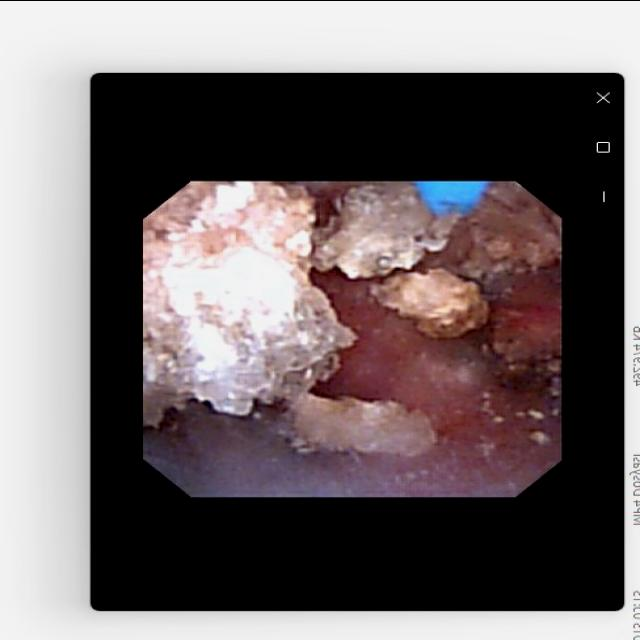stone: (152, 183, 351, 419), (317, 186, 428, 273), (283, 392, 431, 453), (377, 274, 484, 332)
